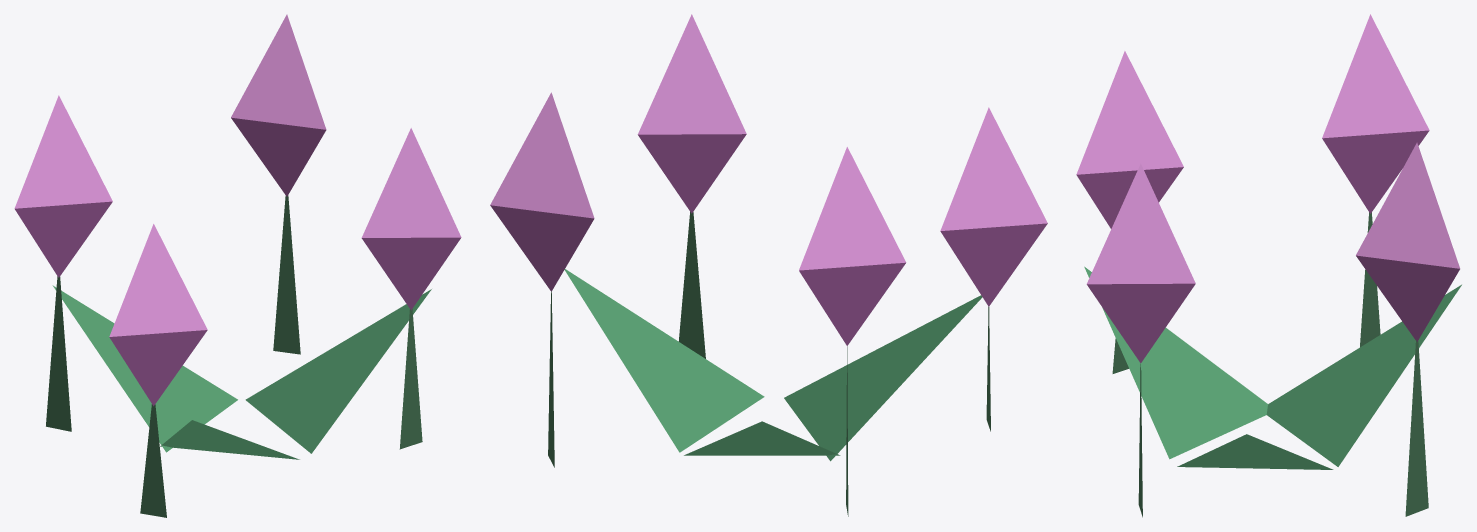
File: plant_fireweed_b.obj
3 renders of one model, left to right at view 1: azimuth 30°, elevation 25°; view 2: azimuth 150°, elevation 25°; view 3: azimuth 270°, elevation 25°, orthographic. The views are drawn at different scales.
Visible parts, largest first — view 1: plant_fireweed_b_12, plant_fireweed_b_13, plant_fireweed_b_4, plant_fireweed_b_1, plant_fireweed_b_10, plant_fireweed_b_7, plant_fireweed_b_5, plant_fireweed_b_2, plant_fireweed_b_11, plant_fireweed_b_8, plant_fireweed_b_6, plant_fireweed_b_9 (+3 smaller); view 2: plant_fireweed_b_12, plant_fireweed_b_14, plant_fireweed_b_4, plant_fireweed_b_1, plant_fireweed_b_10, plant_fireweed_b_7, plant_fireweed_b_5, plant_fireweed_b_2, plant_fireweed_b_11, plant_fireweed_b_8, plant_fireweed_b_13, plant_fireweed_b_3 (+1 smaller); view 3: plant_fireweed_b_13, plant_fireweed_b_14, plant_fireweed_b_4, plant_fireweed_b_10, plant_fireweed_b_1, plant_fireweed_b_7, plant_fireweed_b_5, plant_fireweed_b_11, plant_fireweed_b_8, plant_fireweed_b_12, plant_fireweed_b_2, plant_fireweed_b_6 (+2 smaller).
Boxes of the visible parts, box(x1,y1,x2,y2) form: plant_fireweed_b_12: box(245, 289, 431, 453); plant_fireweed_b_13: box(52, 285, 237, 452); plant_fireweed_b_4: box(361, 128, 461, 237); plant_fireweed_b_1: box(109, 224, 207, 336); plant_fireweed_b_10: box(14, 95, 112, 208); plant_fireweed_b_7: box(231, 14, 326, 129); plant_fireweed_b_5: box(361, 237, 460, 310); plant_fireweed_b_2: box(109, 330, 207, 406); plant_fireweed_b_11: box(15, 201, 112, 277); plant_fireweed_b_8: box(231, 117, 326, 196); plant_fireweed_b_6: box(273, 195, 300, 354); plant_fireweed_b_9: box(46, 276, 71, 431); plant_fireweed_b_12: box(564, 269, 764, 452); plant_fireweed_b_14: box(784, 295, 982, 461); plant_fireweed_b_4: box(638, 14, 746, 134); plant_fireweed_b_1: box(940, 107, 1047, 230); plant_fireweed_b_10: box(799, 147, 905, 270); plant_fireweed_b_7: box(490, 92, 594, 218); plant_fireweed_b_5: box(638, 134, 746, 213); plant_fireweed_b_2: box(940, 223, 1047, 306); plant_fireweed_b_11: box(799, 262, 905, 345); plant_fireweed_b_8: box(490, 205, 593, 291); plant_fireweed_b_13: box(684, 421, 840, 455); plant_fireweed_b_3: box(678, 212, 705, 358); plant_fireweed_b_13: box(1266, 284, 1461, 466); plant_fireweed_b_14: box(1084, 266, 1267, 459); plant_fireweed_b_4: box(1087, 163, 1195, 284); plant_fireweed_b_10: box(1322, 14, 1429, 138); plant_fireweed_b_1: box(1076, 51, 1183, 174); plant_fireweed_b_7: box(1356, 142, 1460, 268); plant_fireweed_b_5: box(1087, 283, 1195, 363); plant_fireweed_b_11: box(1322, 130, 1429, 213); plant_fireweed_b_8: box(1356, 255, 1459, 341); plant_fireweed_b_12: box(1177, 434, 1333, 469); plant_fireweed_b_2: box(1076, 167, 1183, 228); plant_fireweed_b_6: box(1405, 339, 1428, 516).
Size of the model in its own units: 1.53 by 1.29 by 1.22.
